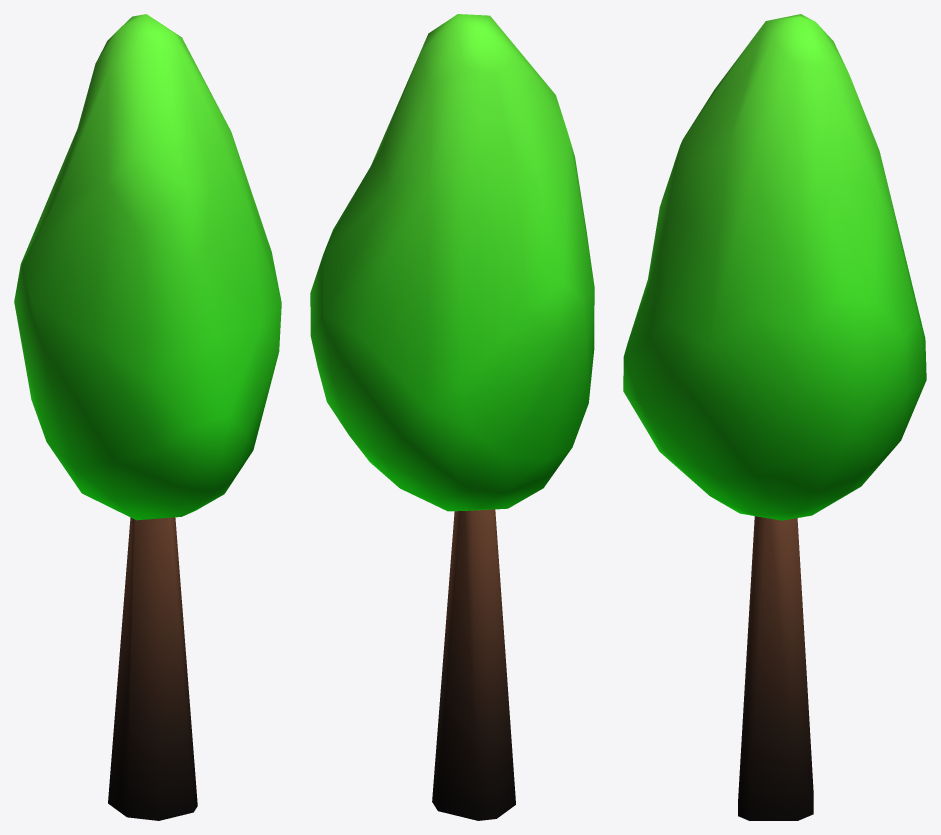
File: thintree.fbx
3 renders of one model, left to right at view 1: azimuth 30°, elevation 25°; view 2: azimuth 150°, elevation 25°; view 3: azimuth 270°, elevation 25°, orthographic.
Parts seen in each view (by area): view 1: pinetree; view 2: pinetree; view 3: pinetree.
Part boxes in pixels (x1,y1,x2,y2): pinetree: (14,14,281,820); pinetree: (310,14,594,820); pinetree: (623,14,926,820).
Size of the model in its own units: 275 by 851 by 296.
